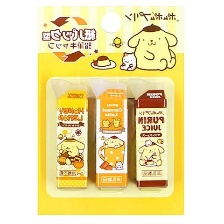carton: (51, 87, 90, 192), (131, 89, 169, 193), (93, 86, 130, 191)
